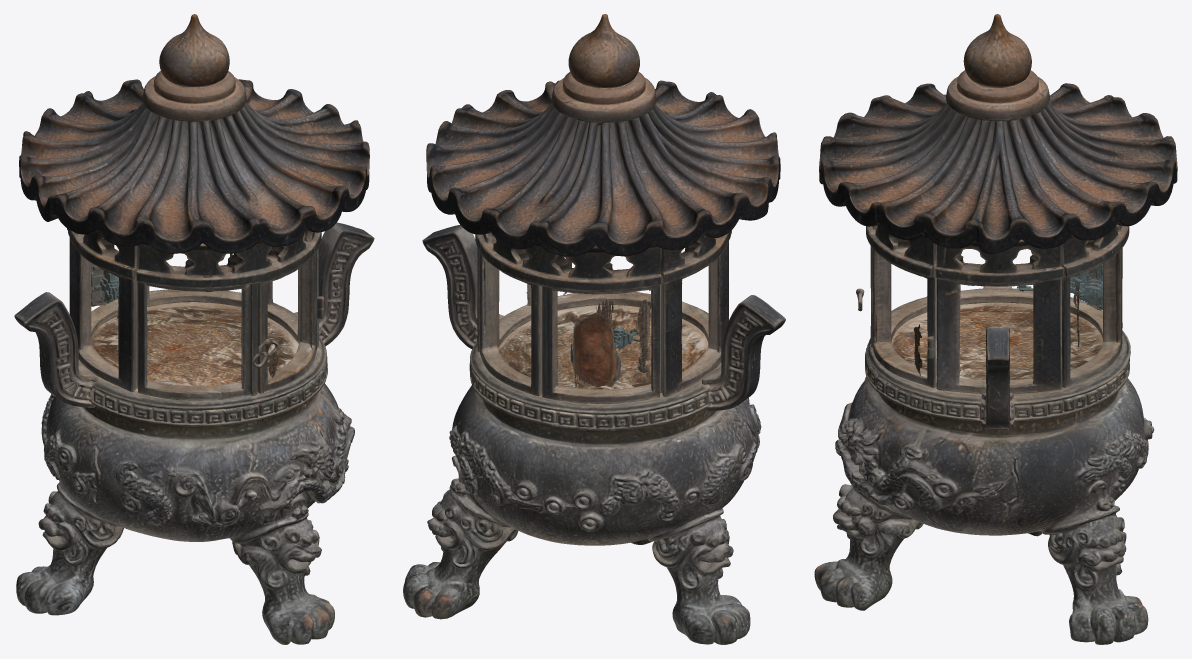
File: vessels.glb
3 renders of one model, left to right at view 1: azimuth 30°, elevation 25°; view 2: azimuth 150°, elevation 25°; view 3: azimuth 270°, elevation 25°, orthographic.
Parts seen in each view (by area): view 1: model; view 2: model; view 3: model.
Part boxes in pixels (<box>): model: <box>14,14,374,644</box>; model: <box>403,14,785,644</box>; model: <box>814,14,1177,644</box>.
Size of the model in its own units: 1.21 by 1.9 by 1.1.
1 material, 1 textured.
